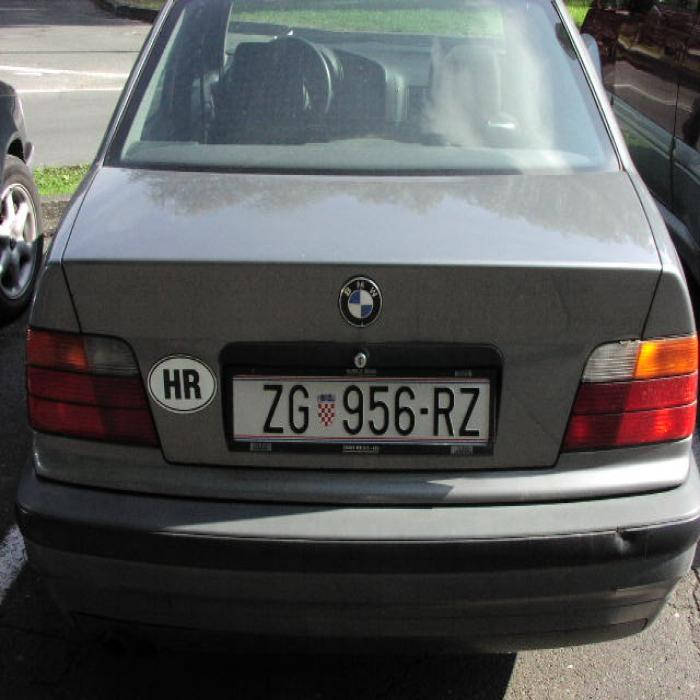number_plate: (234, 376, 489, 440)
